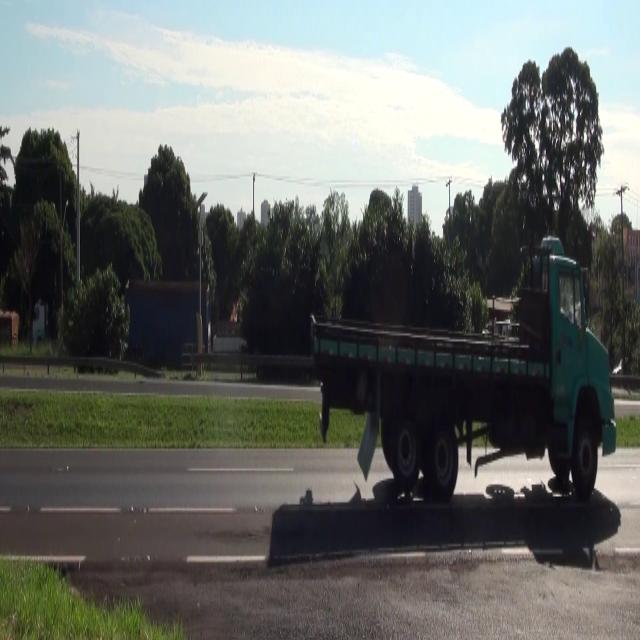-axle: (426, 403, 460, 504), (570, 408, 601, 496), (391, 401, 419, 488)
